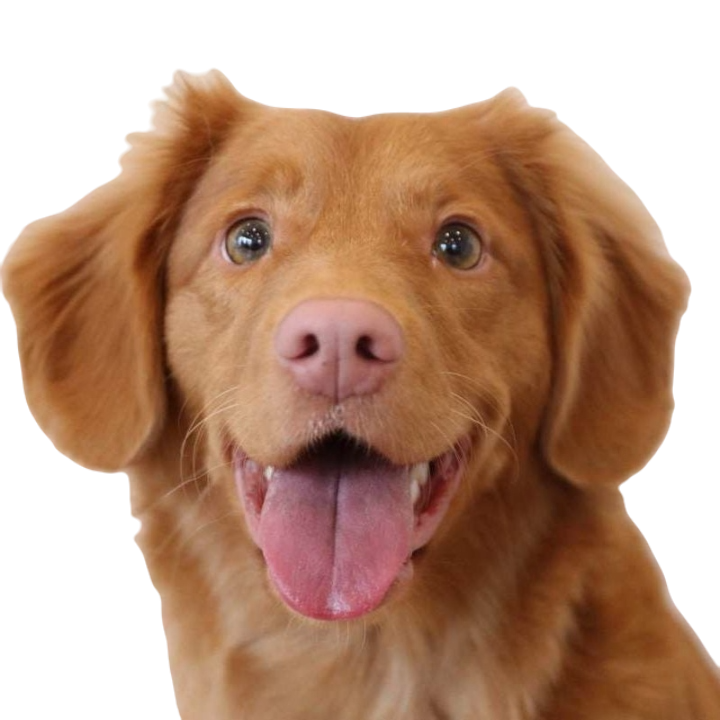Dog: (0, 71, 719, 718)
